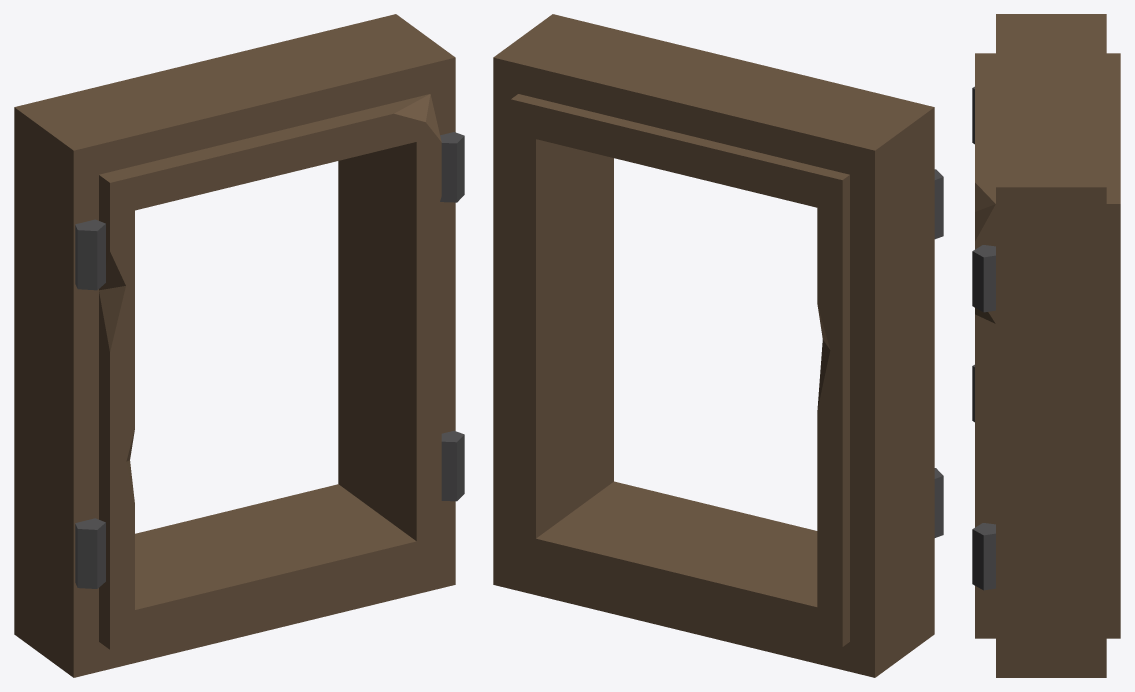
File: SM_Bld_Village_Window_01.glb
The picture shows the model from 3 angles, left to right: view 1: azimuth 30°, elevation 25°; view 2: azimuth 150°, elevation 25°; view 3: azimuth 270°, elevation 25°; orthographic projection. The views are drawn at different scales.
Parts seen in each view (by area): view 1: SM_Bld_Village_Window_01; view 2: SM_Bld_Village_Window_01; view 3: SM_Bld_Village_Window_01.
Boxes of the visible parts, x1,y1,x2,y2 form: SM_Bld_Village_Window_01: (14, 14, 464, 677); SM_Bld_Village_Window_01: (493, 14, 943, 677); SM_Bld_Village_Window_01: (972, 14, 1120, 677).
Size of the model in its own units: 1.38 by 1.8 by 0.4908.
1 material, 1 textured.
